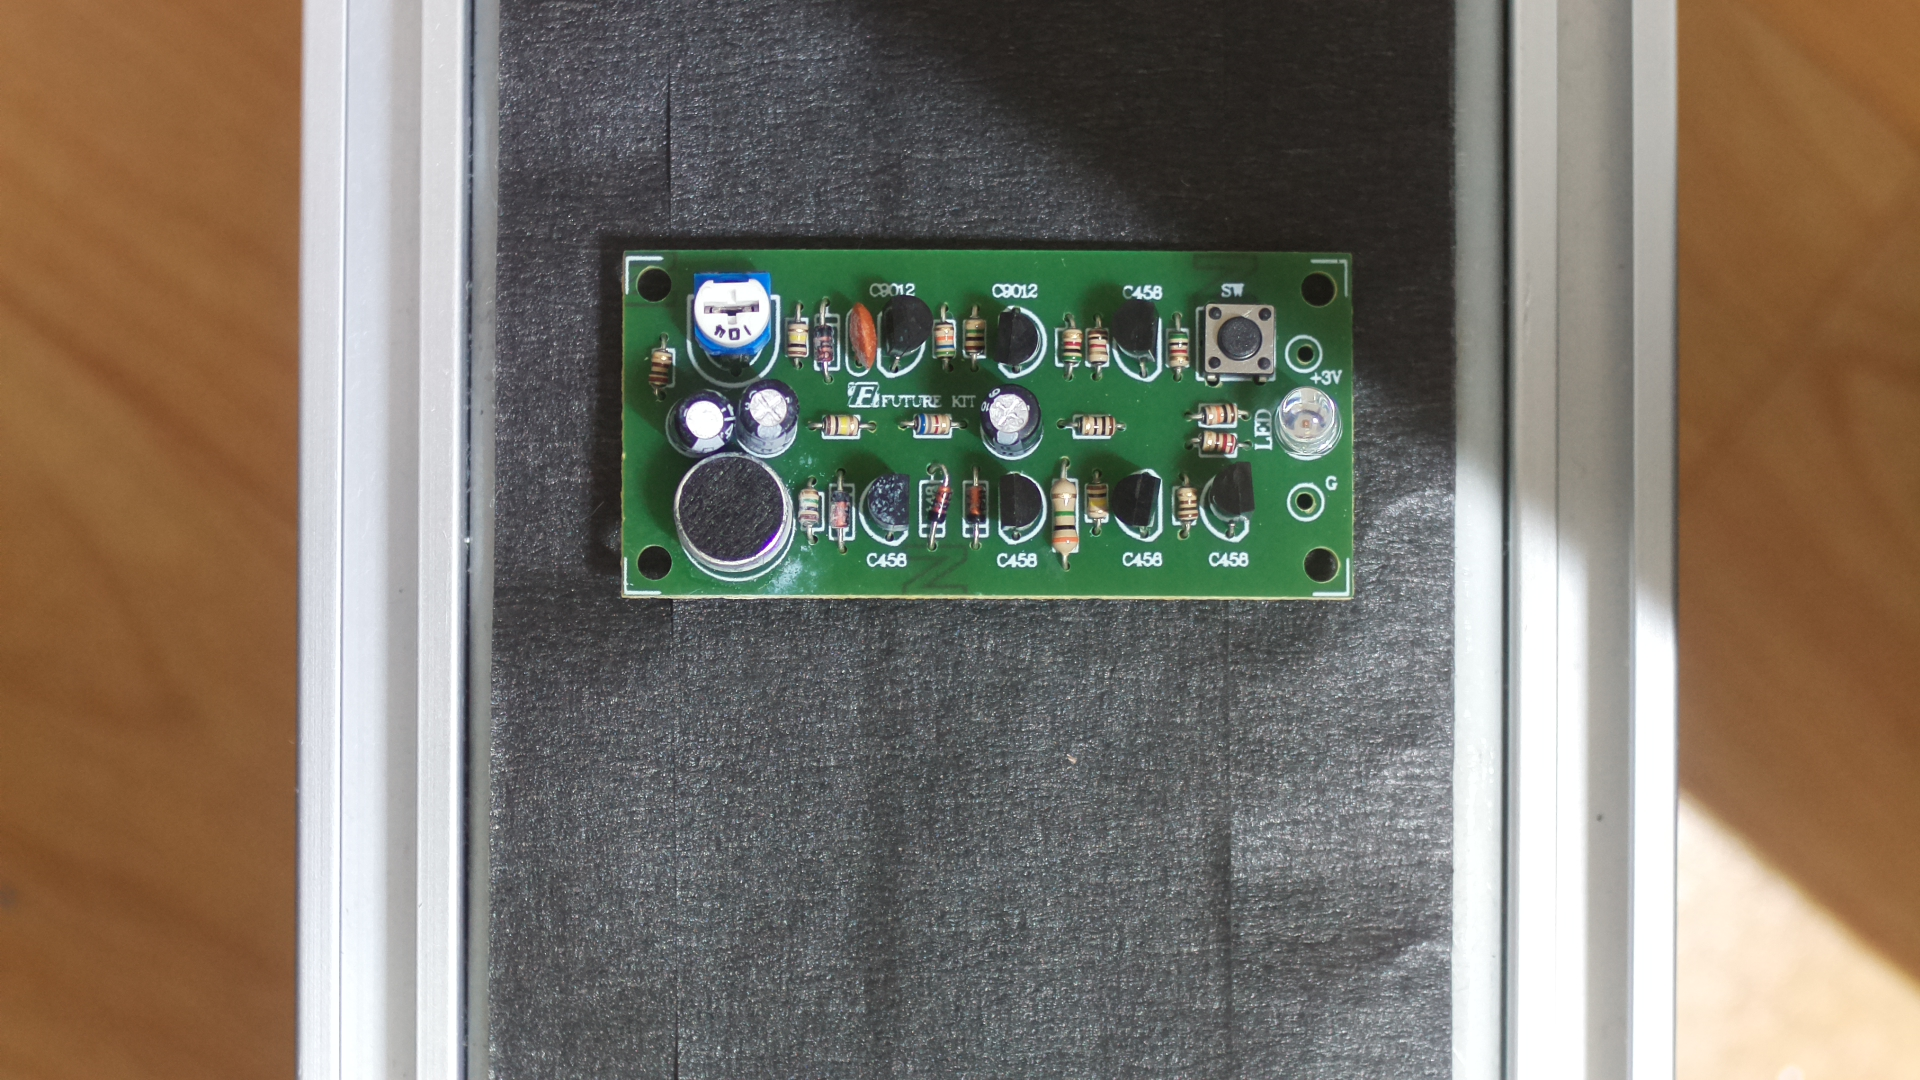A_Normal: (611, 232, 1361, 617)
